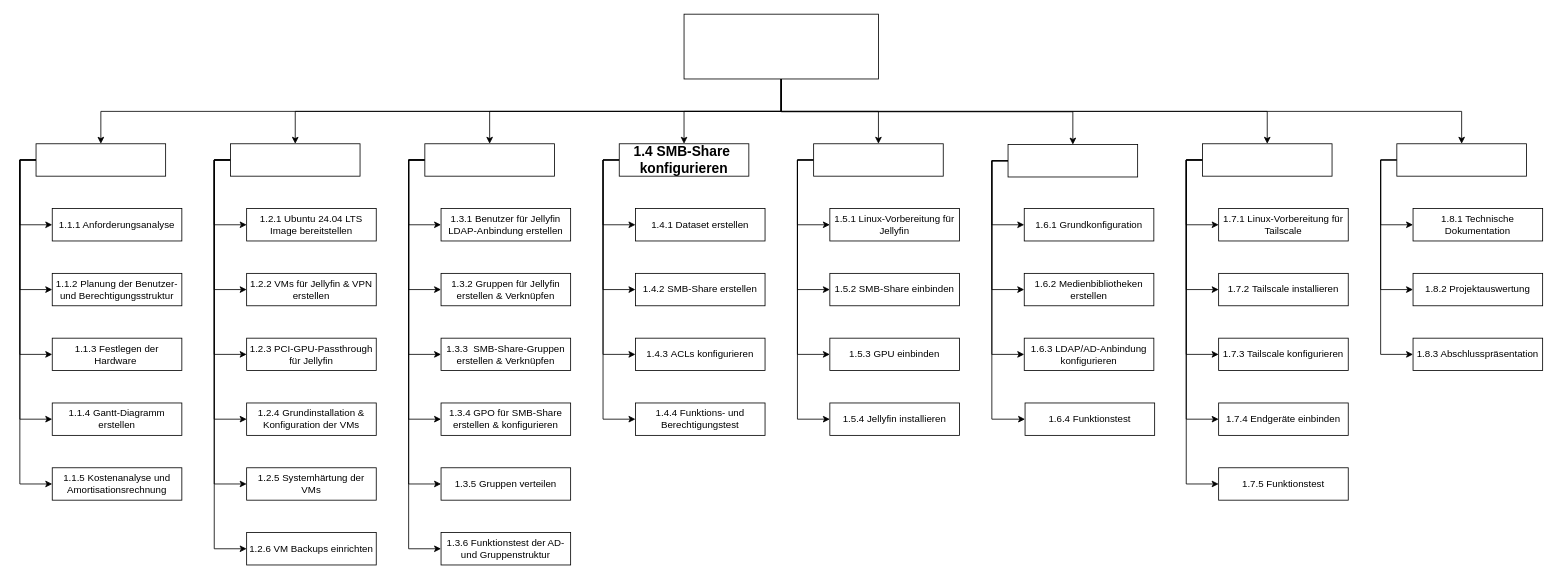
This 1557x579 diagram has some shape labels left out. Here are the shapes that lost their labels. From the top down, the centre of each, then its label:
(780,46): 1 Projekt: Jellyfin Medienserver
(100,159): 1.1 Planung
(295,159): 1.2 Proxmox VE VMs bereitstellen
(489,159): 1.3 AD konfigurieren
(878,159): 1.5 Jellyfin installieren
(1072,160): 1.6 Jellyfin konfigurieren
(1267,159): 1.7 VPN installieren & einrichten
(1461,159): 1.8 Dokumentation
